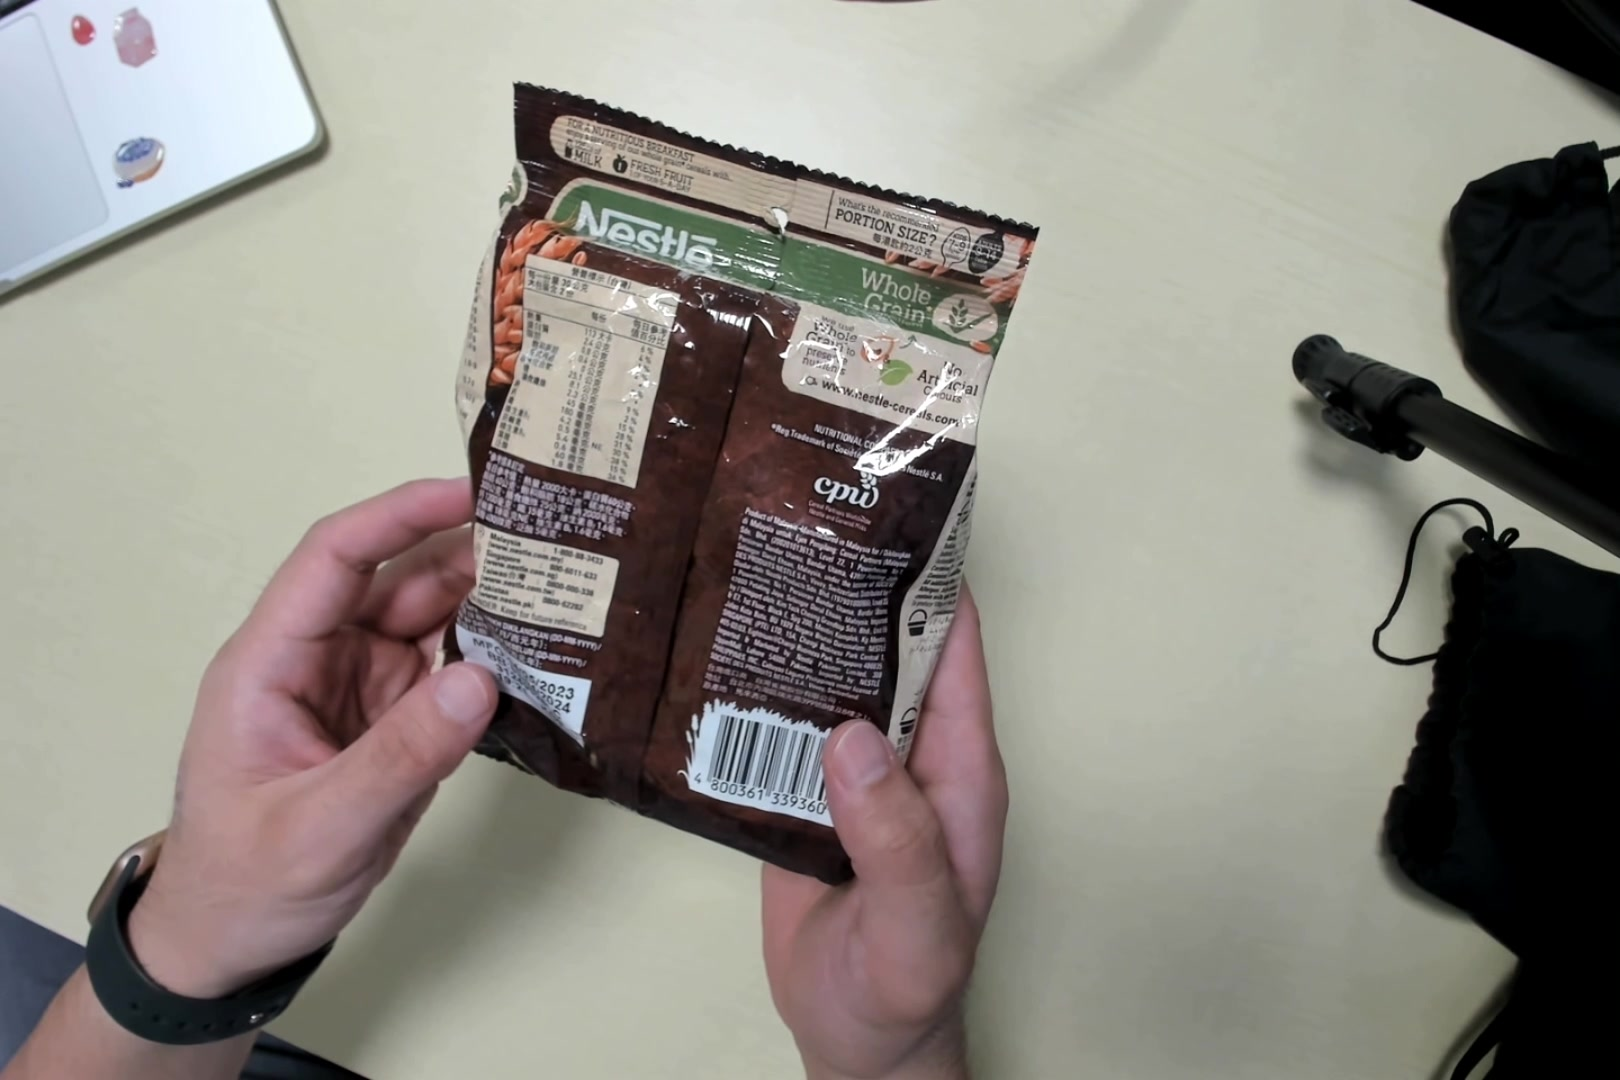BreakfastCereals_0-99g_Halal_NonHealthy: (451, 80, 984, 855)
